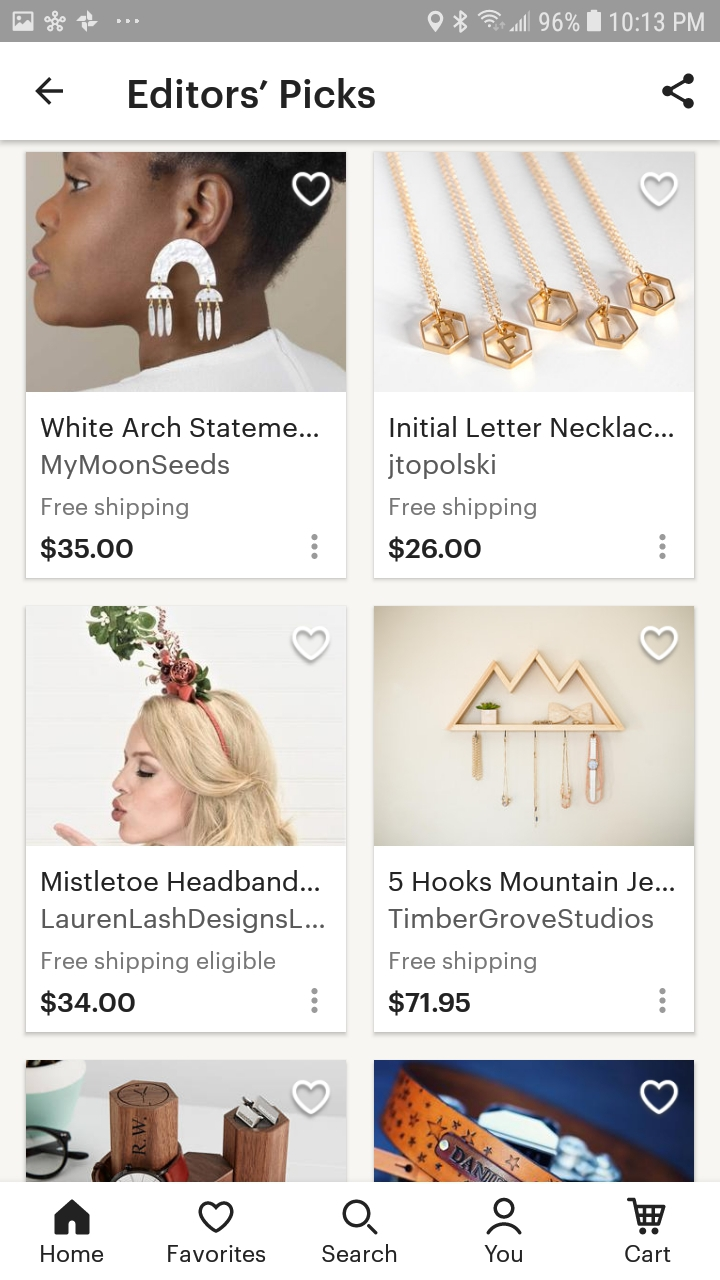Icon: (626, 1196, 666, 1235), (639, 1079, 679, 1115), (486, 1197, 523, 1235), (54, 1199, 91, 1236), (292, 172, 331, 207), (342, 1199, 379, 1235), (293, 1080, 331, 1114), (293, 627, 331, 661), (640, 626, 678, 660), (640, 173, 678, 207), (199, 1200, 235, 1233), (662, 74, 694, 110), (35, 78, 64, 106), (659, 534, 667, 560), (311, 988, 318, 1013), (659, 988, 666, 1013), (311, 535, 318, 560)
Image: (27, 607, 347, 847), (375, 607, 695, 847), (374, 152, 694, 392), (27, 153, 347, 393), (374, 1060, 694, 1182), (27, 1060, 346, 1182)
Text: (389, 416, 674, 480), (42, 870, 325, 934), (42, 417, 319, 480), (388, 870, 675, 930), (129, 78, 376, 110), (42, 950, 277, 974), (390, 496, 537, 520), (390, 951, 537, 974), (43, 499, 189, 520), (389, 536, 482, 563), (41, 990, 136, 1016), (42, 536, 134, 562), (389, 990, 471, 1017), (169, 1244, 267, 1263), (322, 1243, 397, 1263), (41, 1245, 105, 1263), (625, 1244, 671, 1263), (484, 1244, 523, 1263)
UpperTaskBar: (1, 1, 720, 43)
